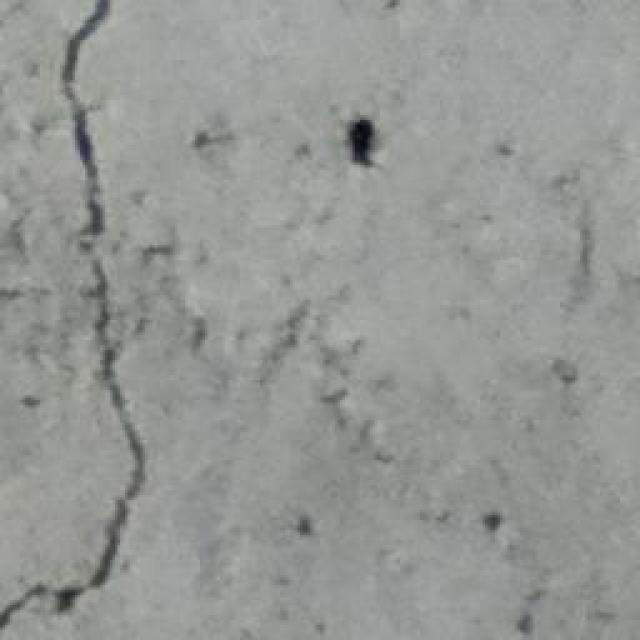Diagonal: (1, 0, 163, 640)
